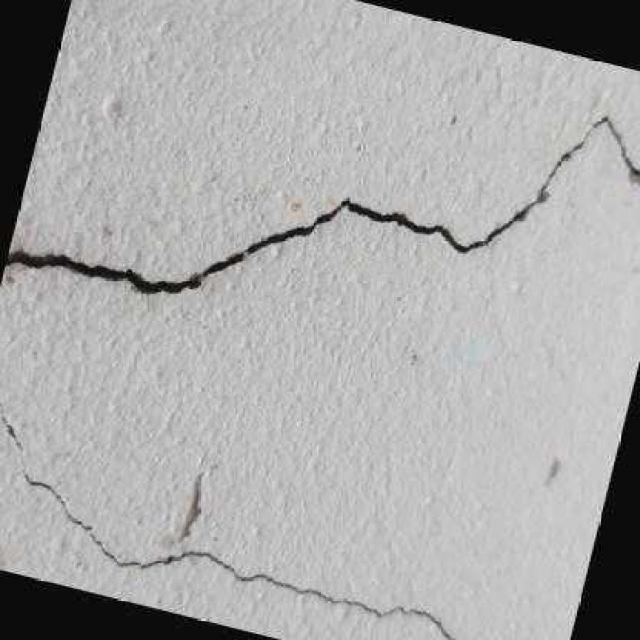D00: (5, 114, 640, 297), (20, 466, 458, 640), (0, 402, 24, 453)
